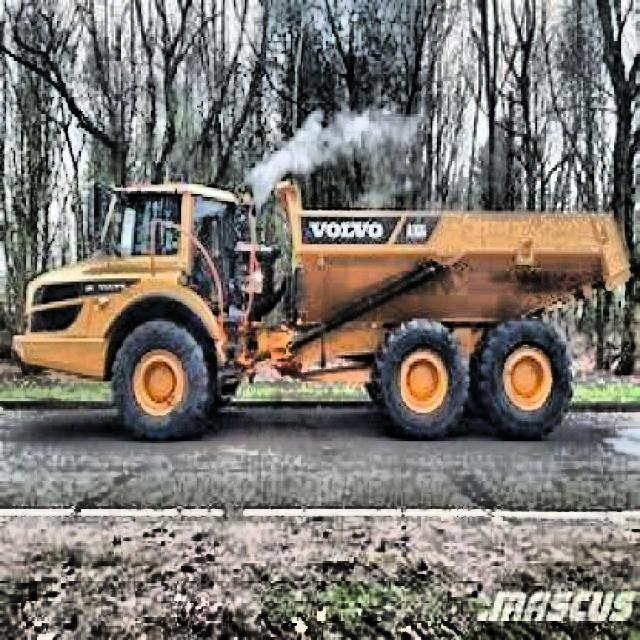dump_truck: (21, 157, 627, 444)
